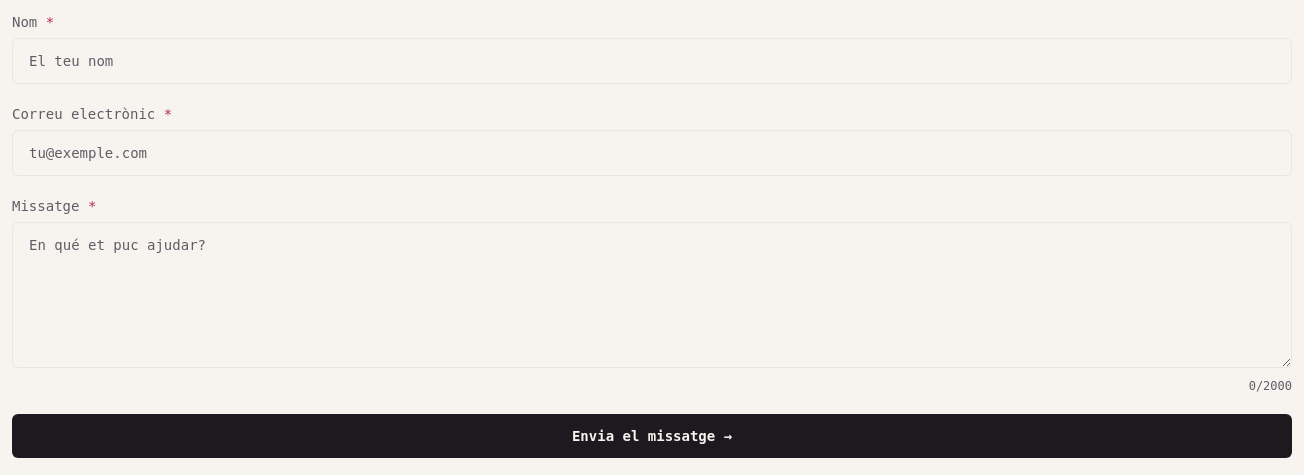
Test: ContactForm — successful submission › shows success state after successful submission
In the field labelled "Nom *": (652, 61) [12,38,1292,84], type "Anna Garcia"
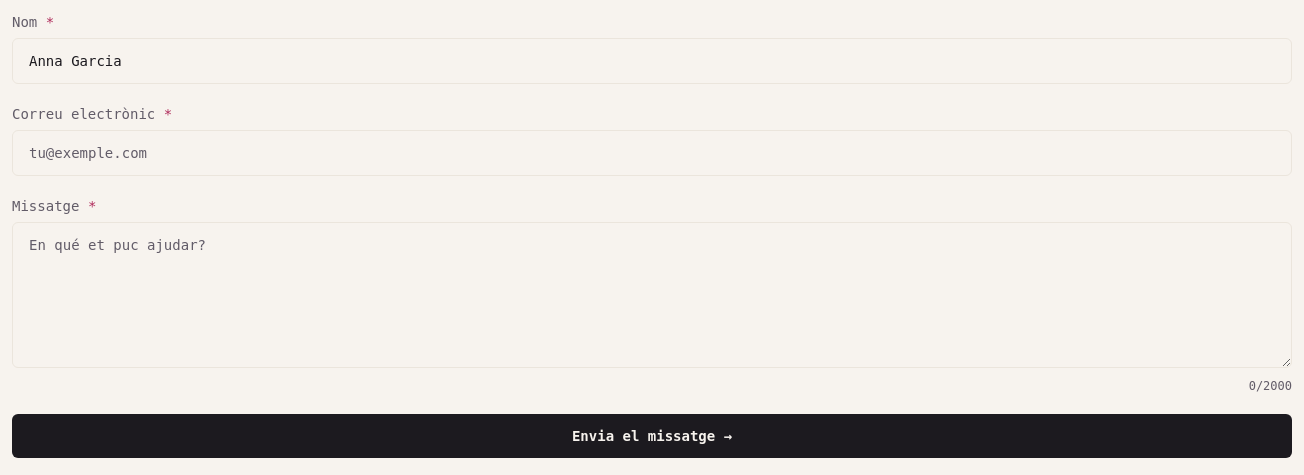
In the field labelled "Correu electrònic *": (652, 153) [12,130,1292,176], type "anna@exemple.com"
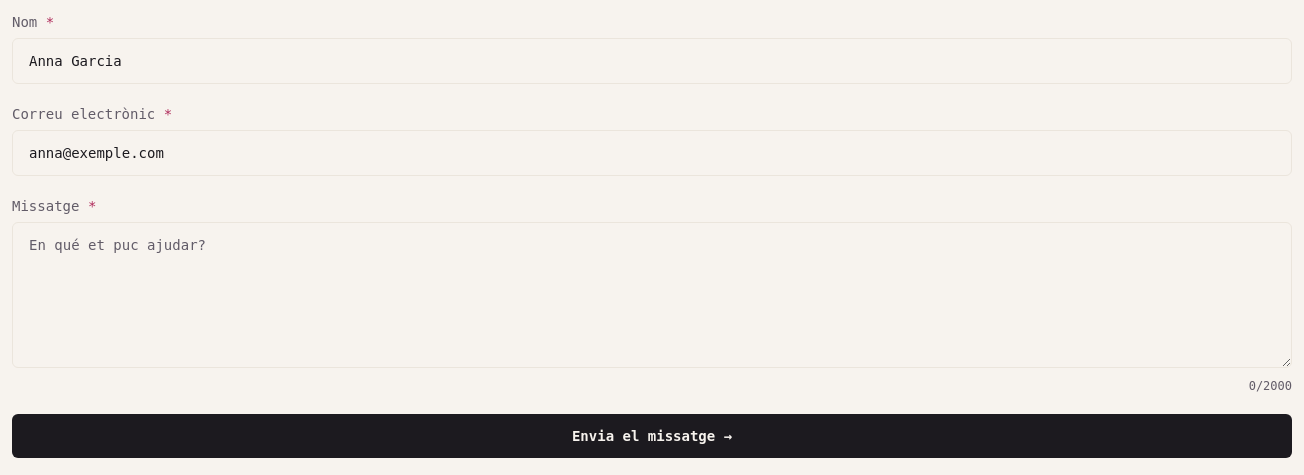
In the text box labelled "Missatge *": (652, 295) [12,222,1292,368], type "Hola, tinc una pregunta!"
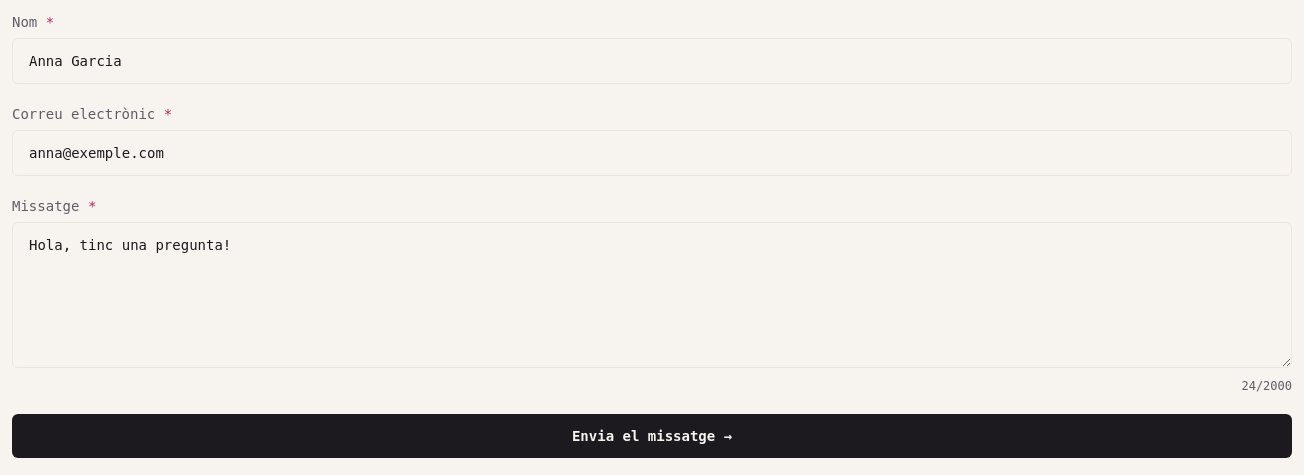
Submit the form
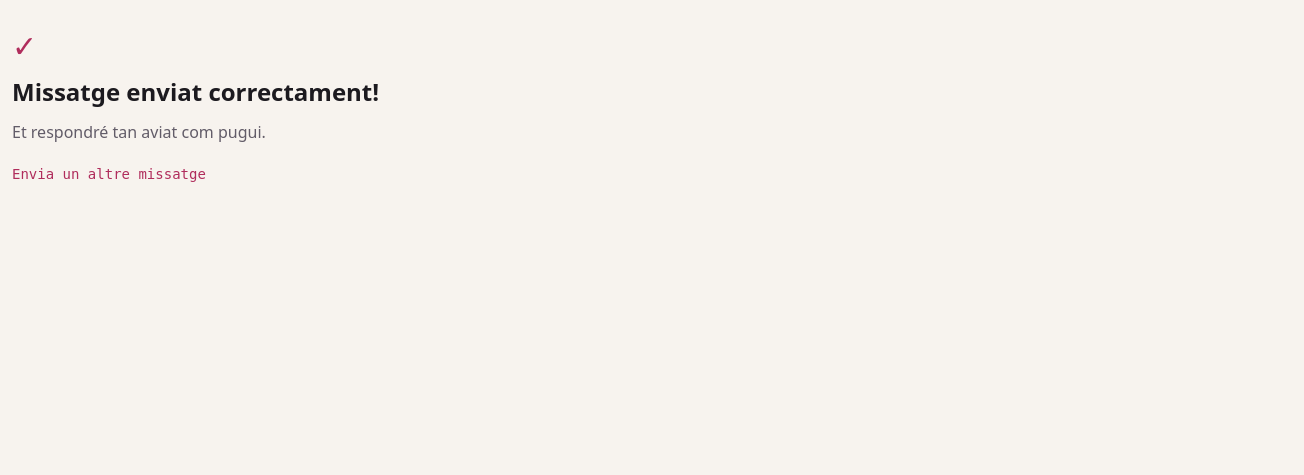
Expected: the text "Missatge enviat correctament!" is shown, [12,76,379,108]
